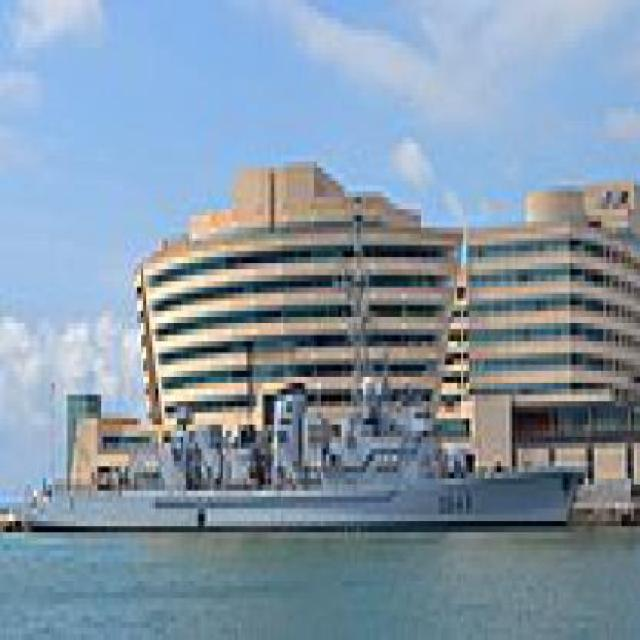warship2: (34, 228, 590, 551)
